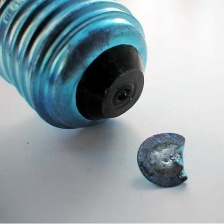light_bulb: (0, 0, 153, 137)
